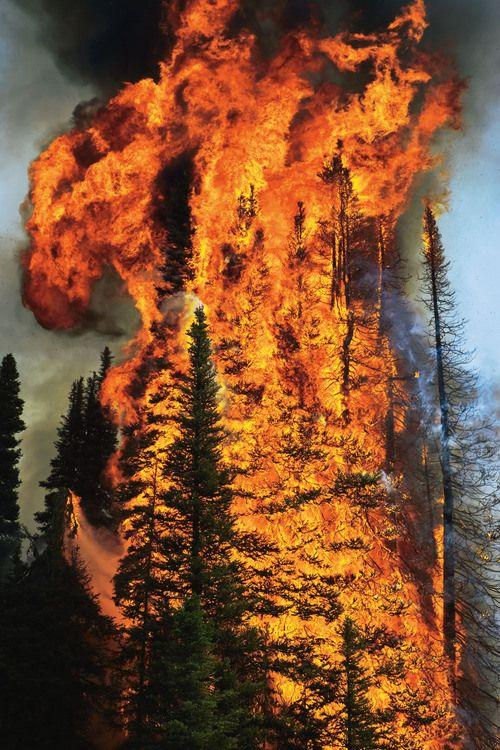fire: (4, 0, 500, 750)
